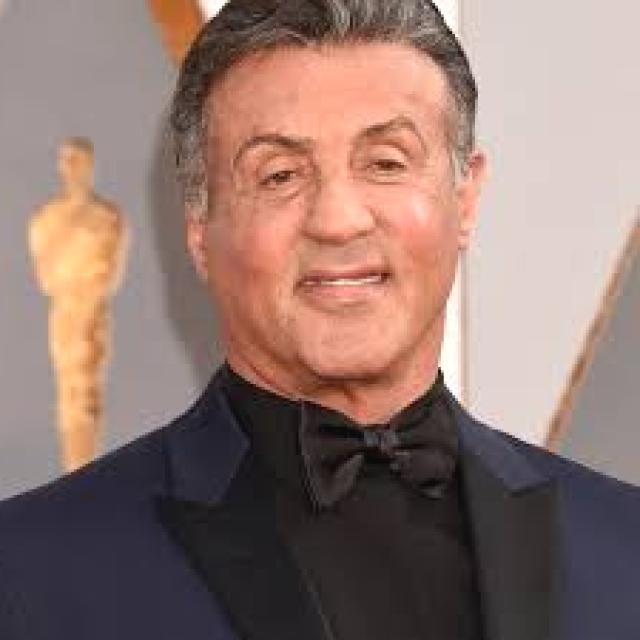normal_face: (201, 23, 491, 401)
